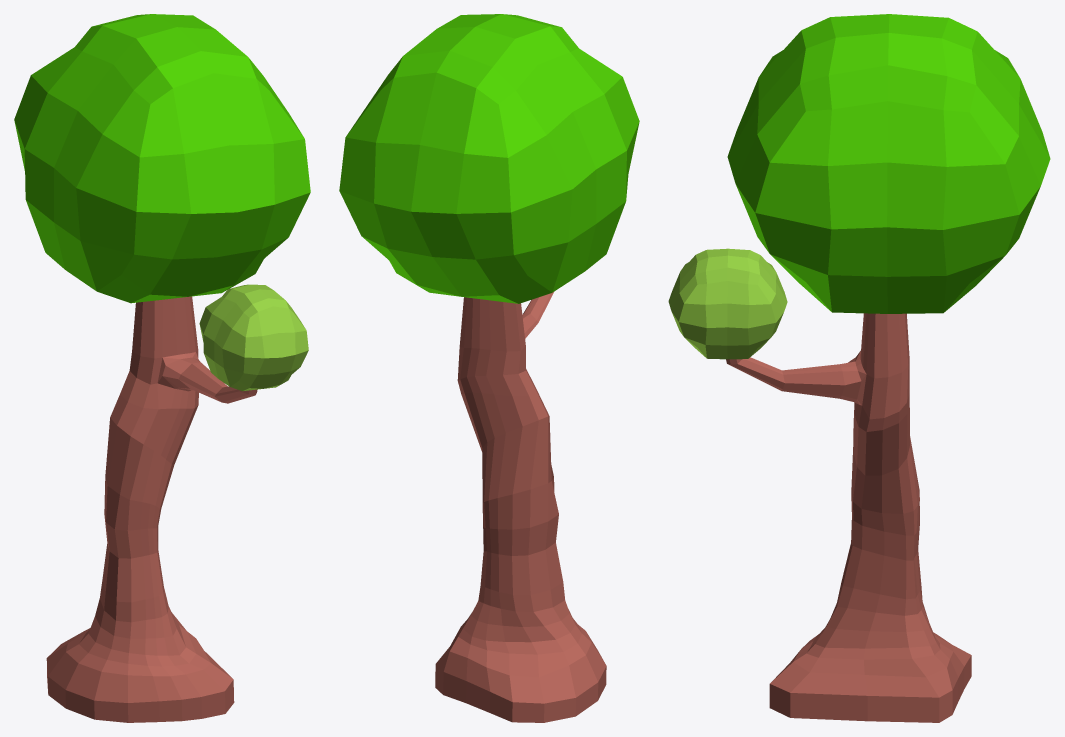
The model's file is pohon.fbx.
3 views of the same model, side by side, from view 1: azimuth 30°, elevation 25°; view 2: azimuth 150°, elevation 25°; view 3: azimuth 270°, elevation 25° (orthographic). The views are drawn at different scales.
Visible parts, largest first — view 1: Cube.001, Cube, Cube.002; view 2: Cube.001, Cube; view 3: Cube.001, Cube, Cube.002.
Part boxes in pixels (left/top/right/bottom): Cube.001: left=14, top=14, right=310, bottom=303; Cube: left=46, top=296, right=257, bottom=722; Cube.002: left=199, top=284, right=308, bottom=391; Cube.001: left=339, top=14, right=639, bottom=303; Cube: left=435, top=292, right=606, bottom=722; Cube.001: left=727, top=14, right=1050, bottom=313; Cube: left=726, top=313, right=971, bottom=722; Cube.002: left=668, top=248, right=787, bottom=359.
Bounding box in the file's own units: 237 × 661 × 333.
